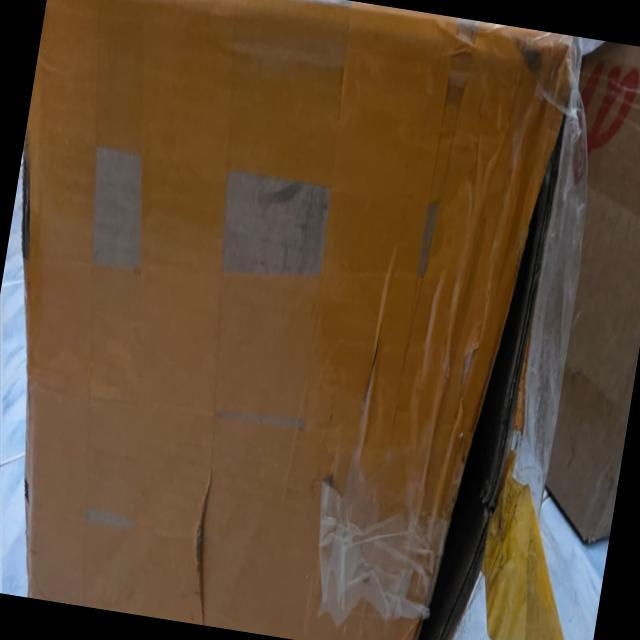carton_box: (0, 0, 612, 640)
package_damage: (411, 26, 610, 640)
